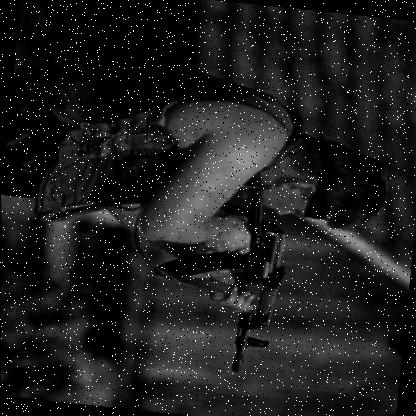rifle: (146, 159, 299, 377)
